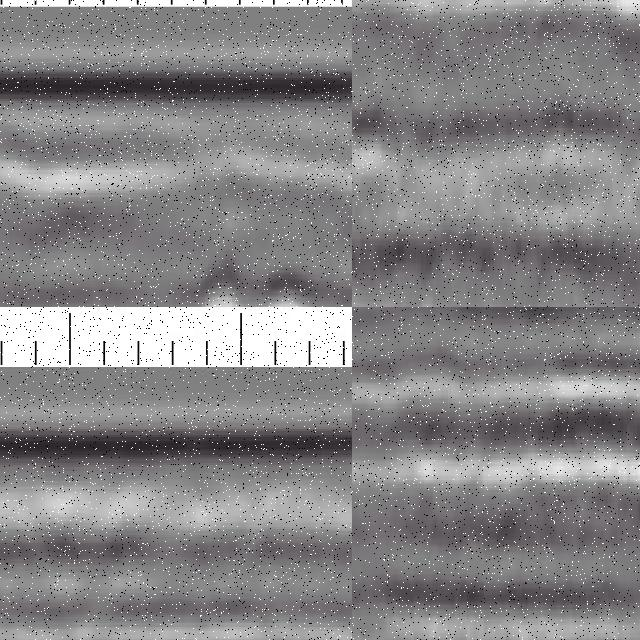loose: (192, 233, 314, 308)
